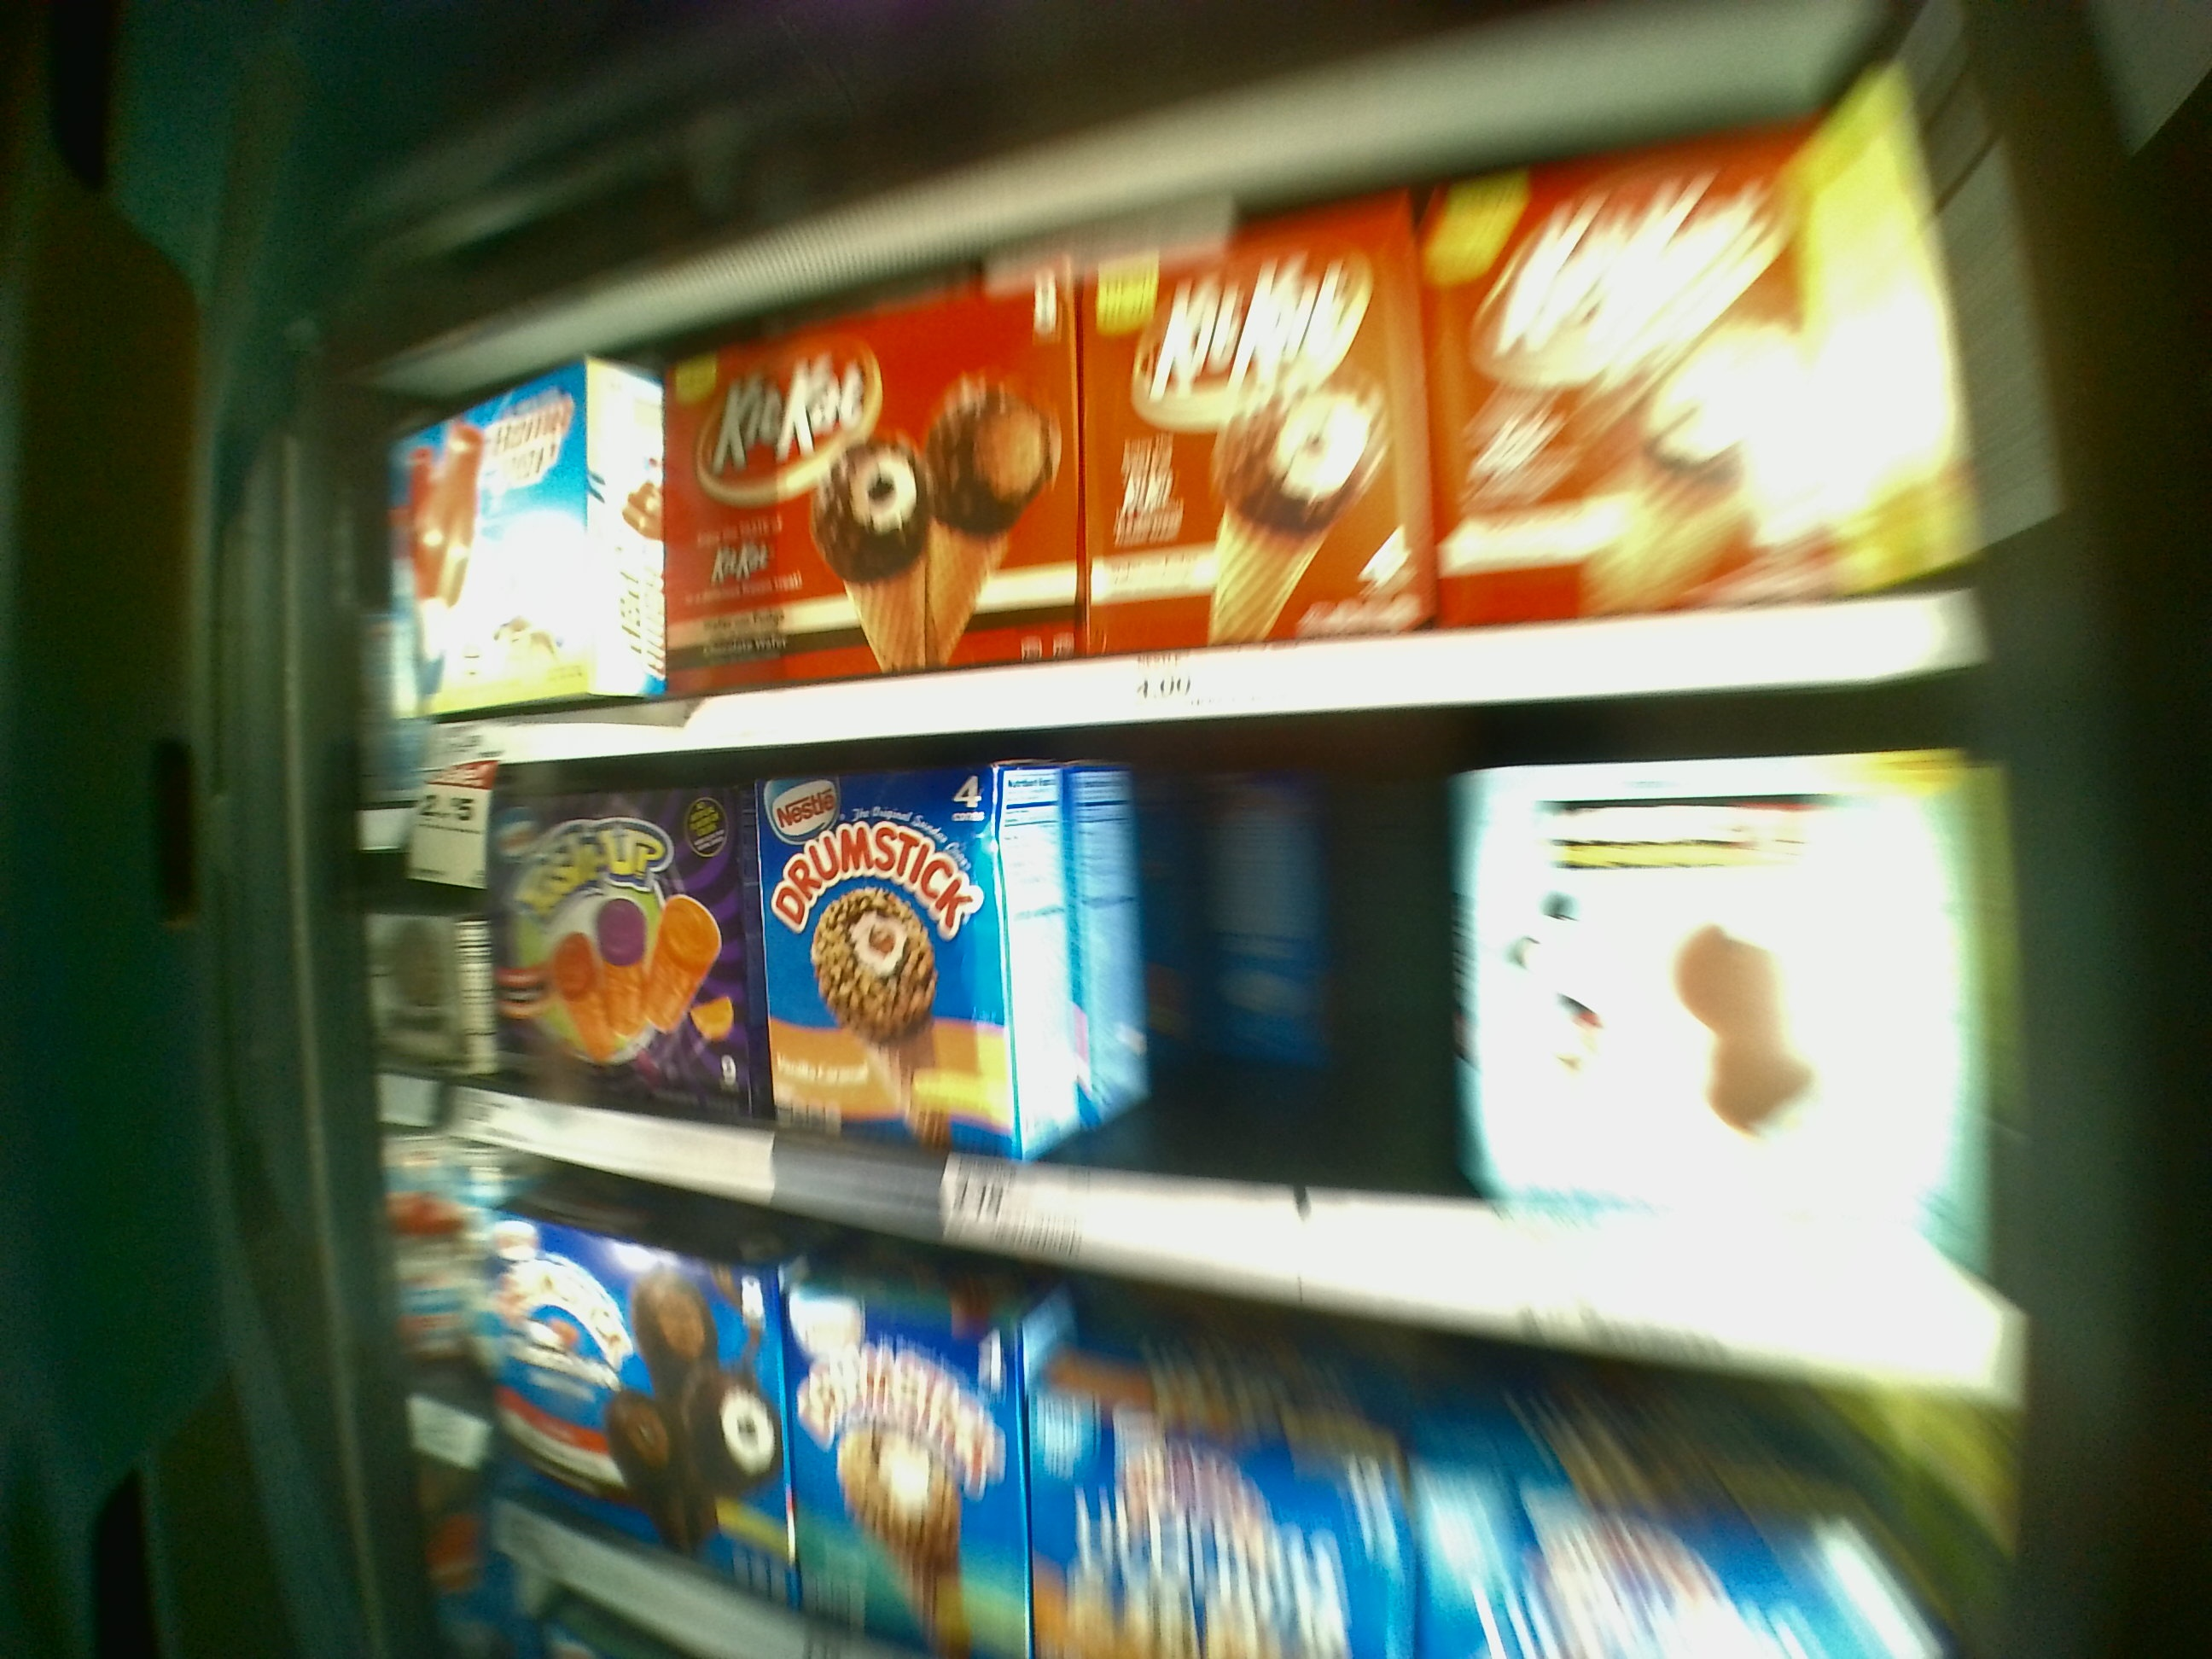shelf: (392, 695, 2031, 1291), (394, 185, 1980, 711)
